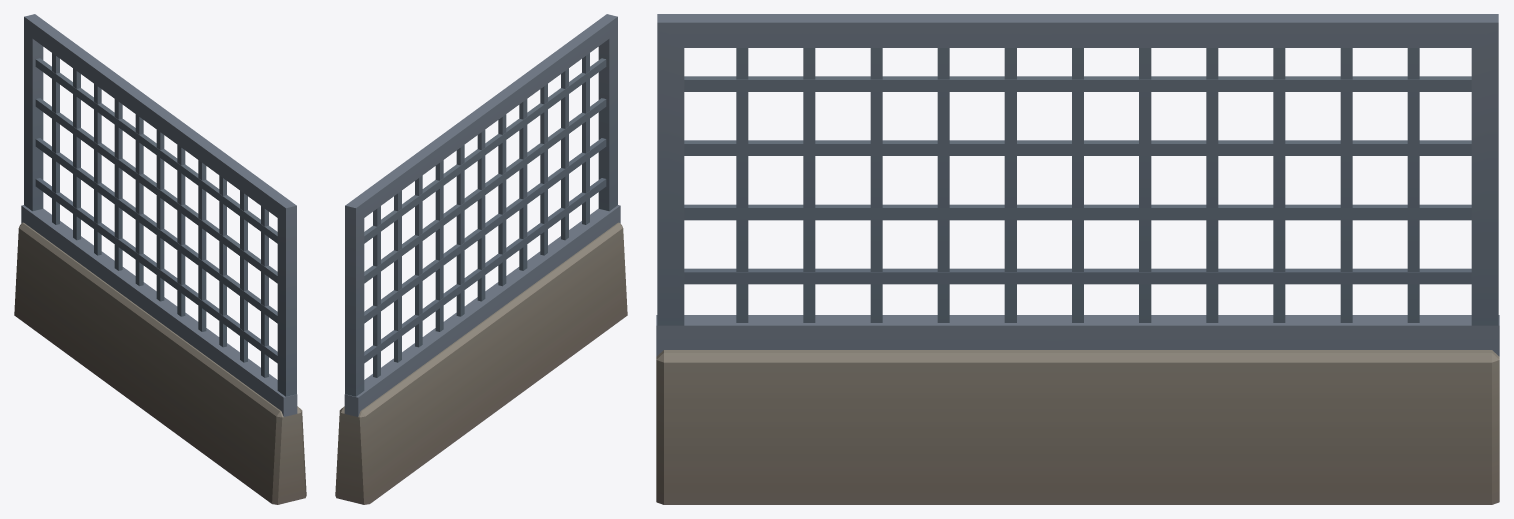
File: Fence_1_A_4.glb
The picture shows the model from 3 angles, left to right: view 1: azimuth 30°, elevation 25°; view 2: azimuth 150°, elevation 25°; view 3: azimuth 270°, elevation 25°; orthographic projection. The views are drawn at different scales.
Parts seen in each view (by area): view 1: Fence_1_A_4; view 2: Fence_1_A_4; view 3: Fence_1_A_4.
Part boxes in pixels (box(x1,y1,x2,y2)): Fence_1_A_4: box(14, 14, 306, 504); Fence_1_A_4: box(335, 14, 627, 504); Fence_1_A_4: box(656, 14, 1499, 504).
Size of the model in its own units: 0.3052 by 2.48 by 4.
Materials: 2 (2 with a texture image).
